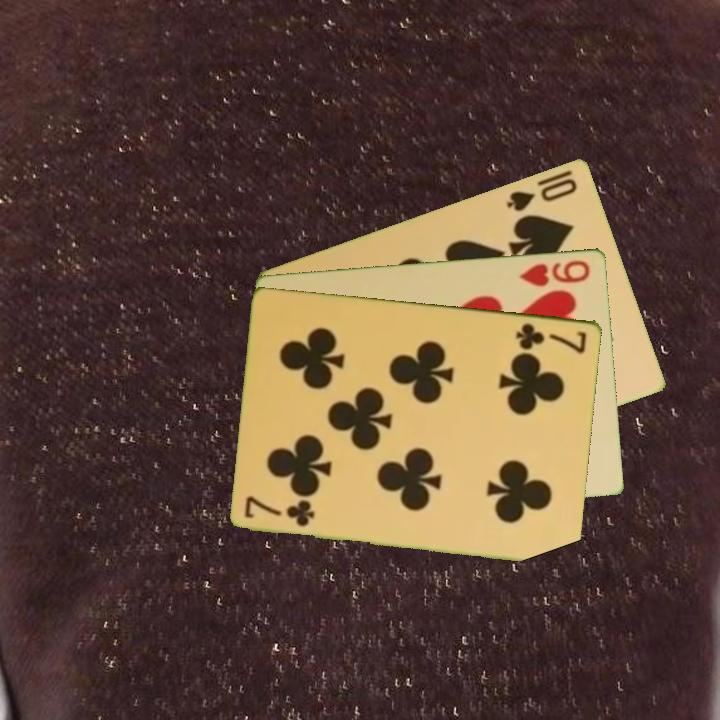10s: (503, 174, 580, 214)
7c: (512, 319, 590, 356), (241, 495, 318, 529)
9h: (516, 256, 593, 289)
